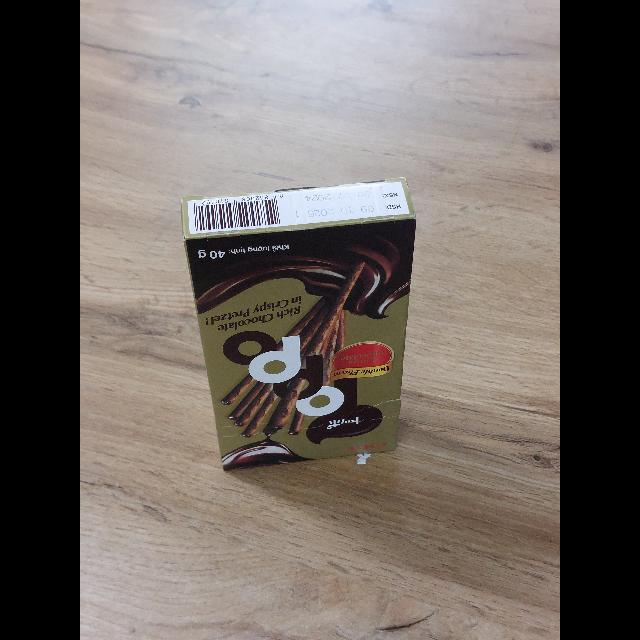banh_toppo_socola: (181, 178, 416, 471)
